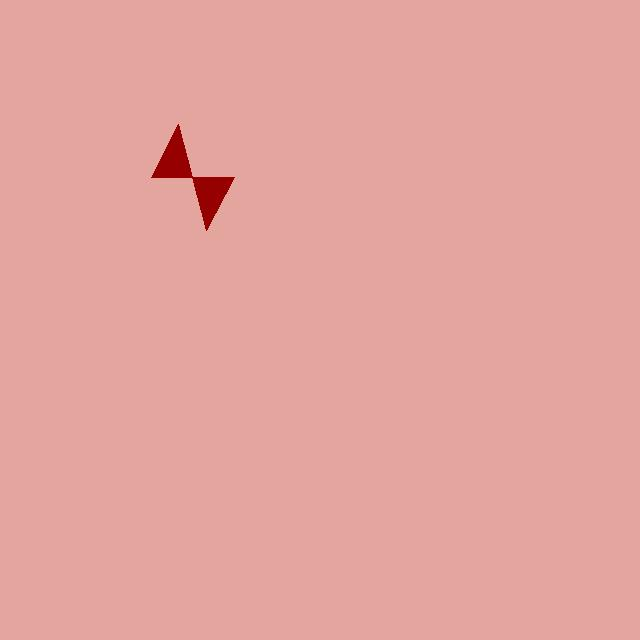laceration: (151, 124, 234, 230)
